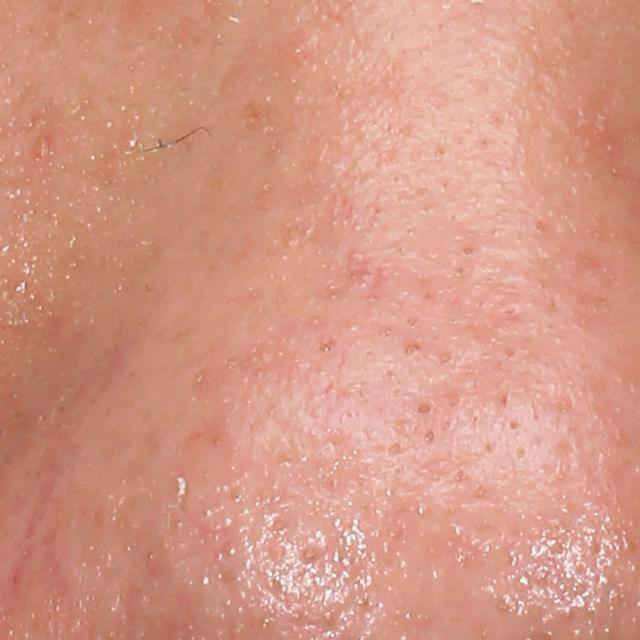comedo: (415, 398, 436, 419), (402, 340, 420, 356), (317, 339, 333, 355), (460, 244, 477, 258)
